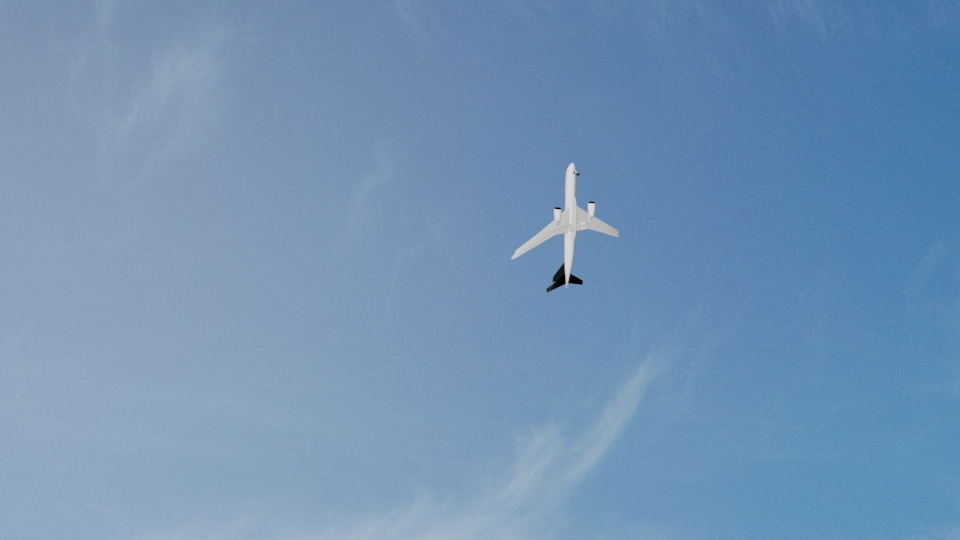plane: (509, 160, 620, 292)
